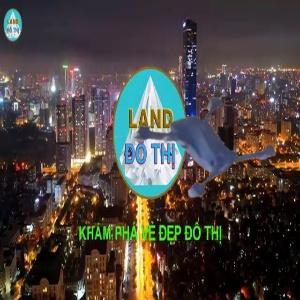drone: (108, 74, 262, 228)
